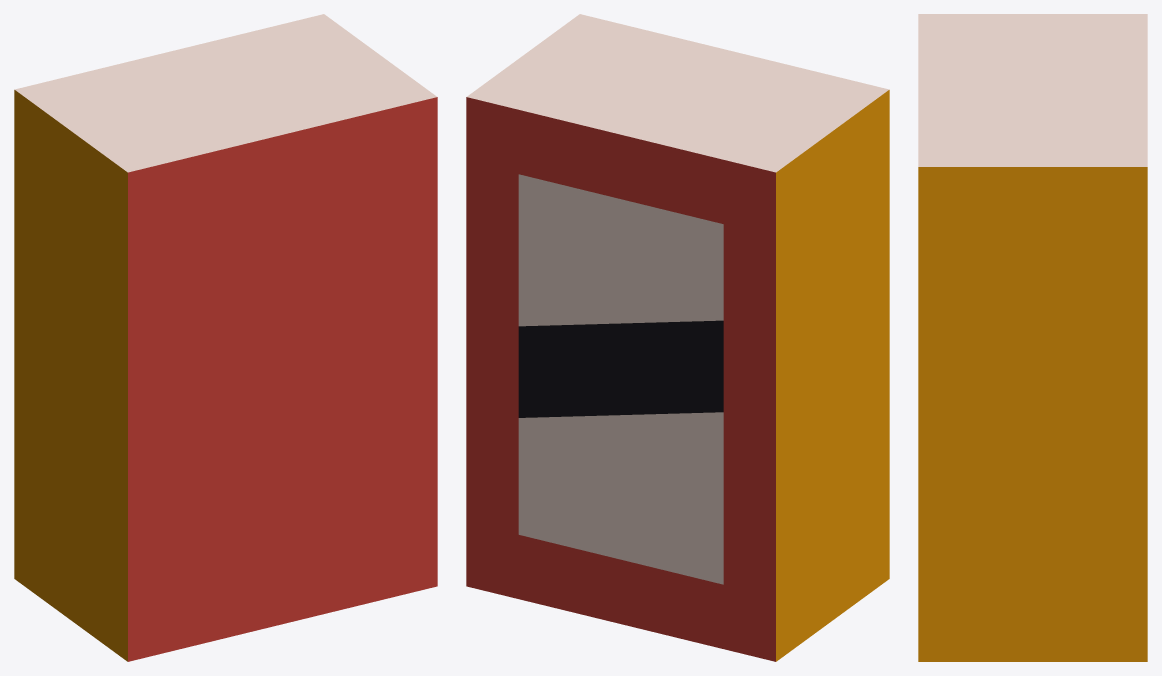
Rendered from Soda.fbx.
The picture shows the model from 3 angles, left to right: view 1: azimuth 30°, elevation 25°; view 2: azimuth 150°, elevation 25°; view 3: azimuth 270°, elevation 25°; orthographic projection.
Visible parts, largest first — view 1: Soda; view 2: Soda; view 3: Soda.
Part boxes in pixels (bbox=[...]): Soda: bbox=[14, 14, 437, 661]; Soda: bbox=[466, 14, 889, 661]; Soda: bbox=[918, 14, 1147, 661].
Size of the model in its own units: 41.44 by 62.58 by 26.29.
